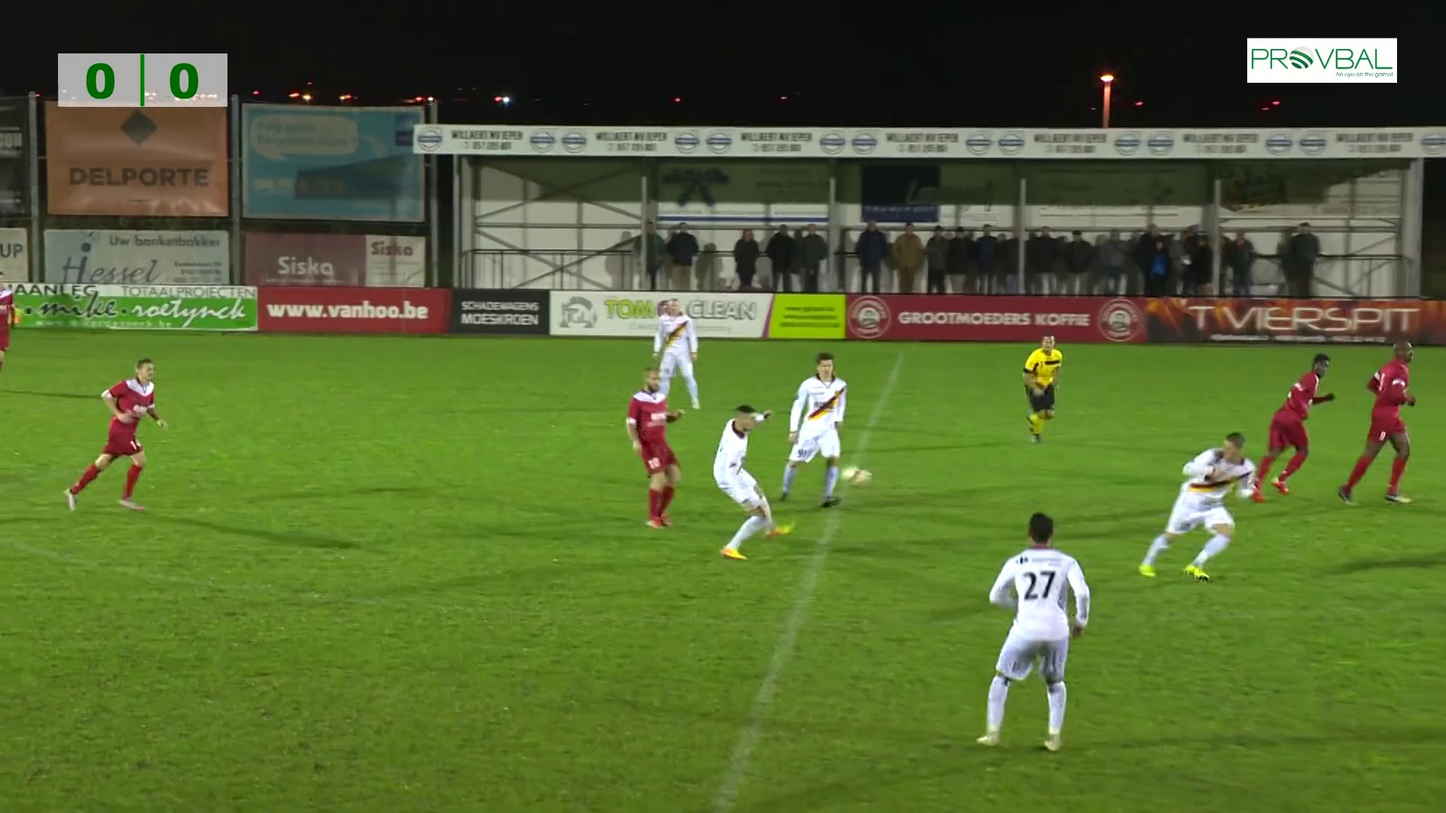red_team: (65, 349, 165, 513), (1338, 336, 1427, 509), (1257, 353, 1337, 506), (627, 367, 688, 531)
referee: (1022, 331, 1066, 446)
white_team: (981, 505, 1084, 757), (1142, 428, 1255, 586), (713, 397, 798, 561), (781, 353, 856, 510), (653, 297, 706, 412)
